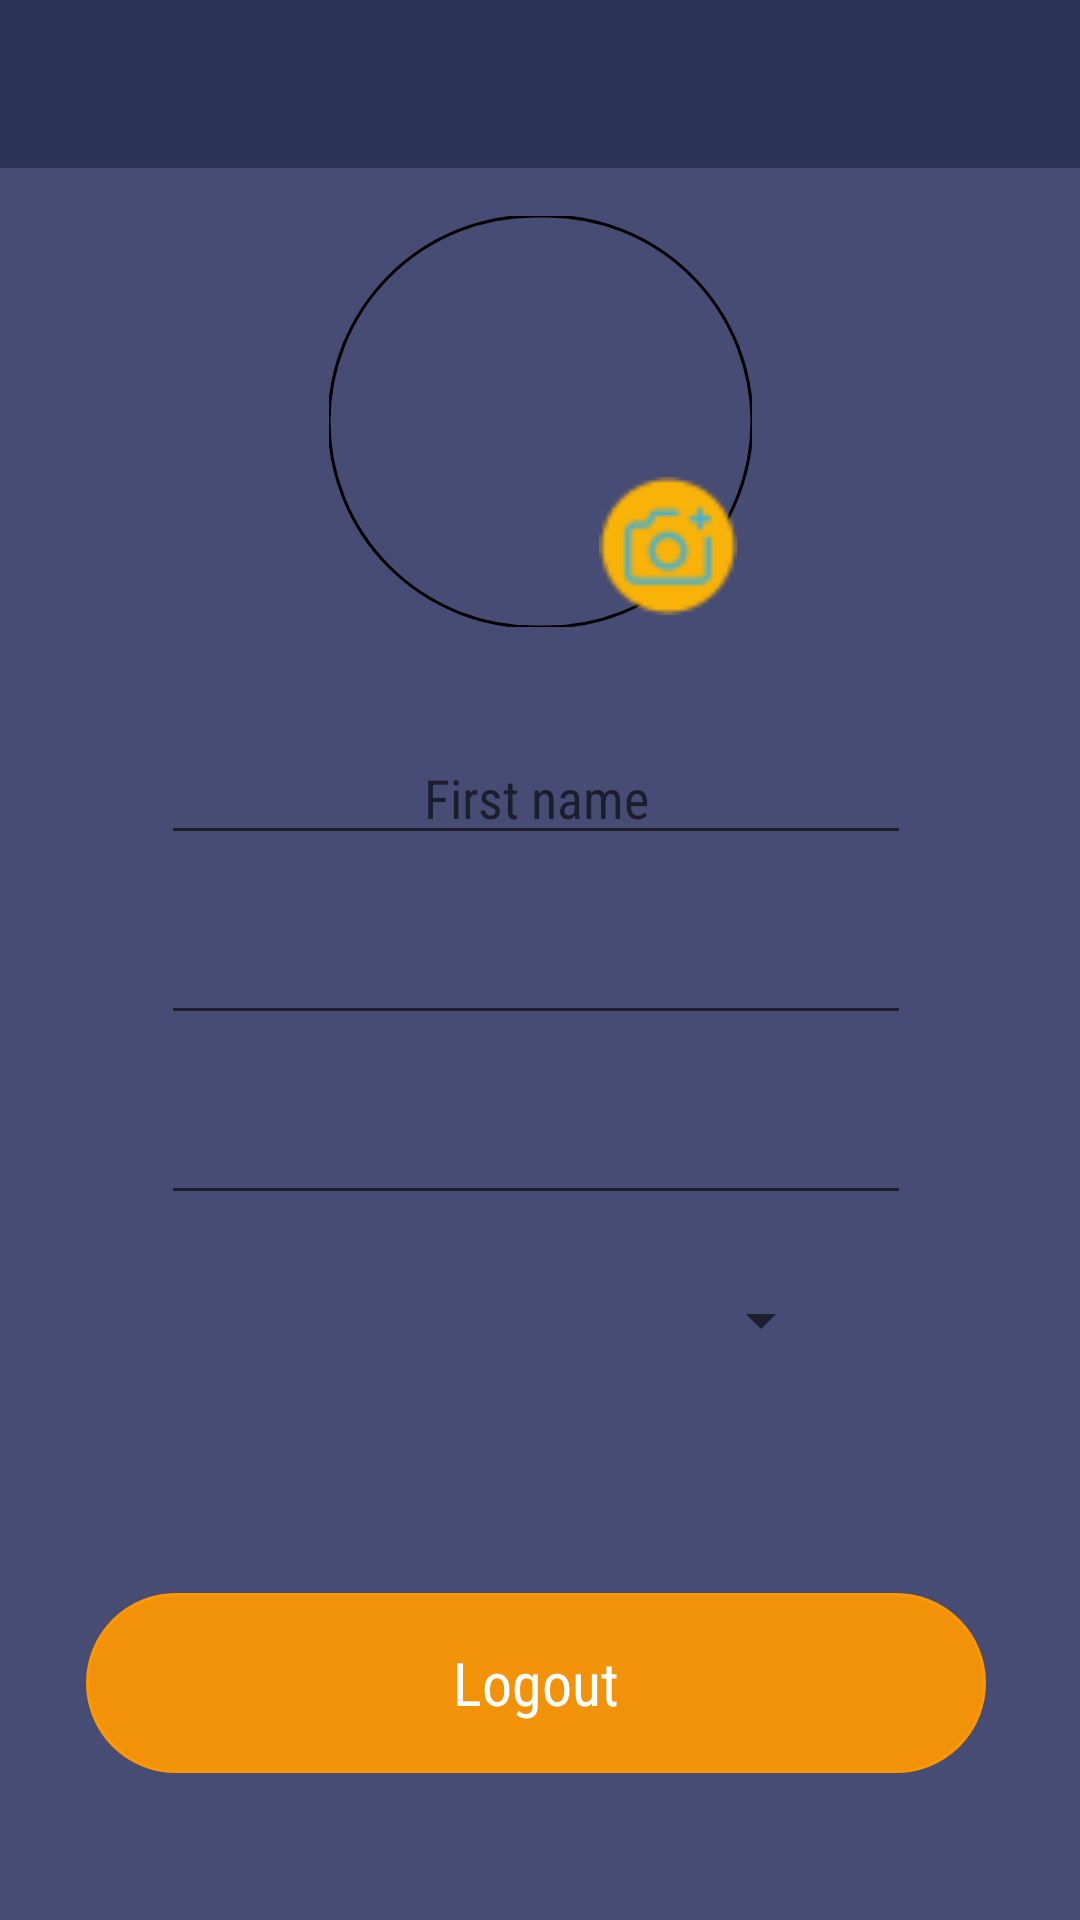

Icon bounding boxes for this 1080 x 1920 phone screenshot, format (x1, y1, x2, y2):
add profile picture: (599, 477, 740, 615)
